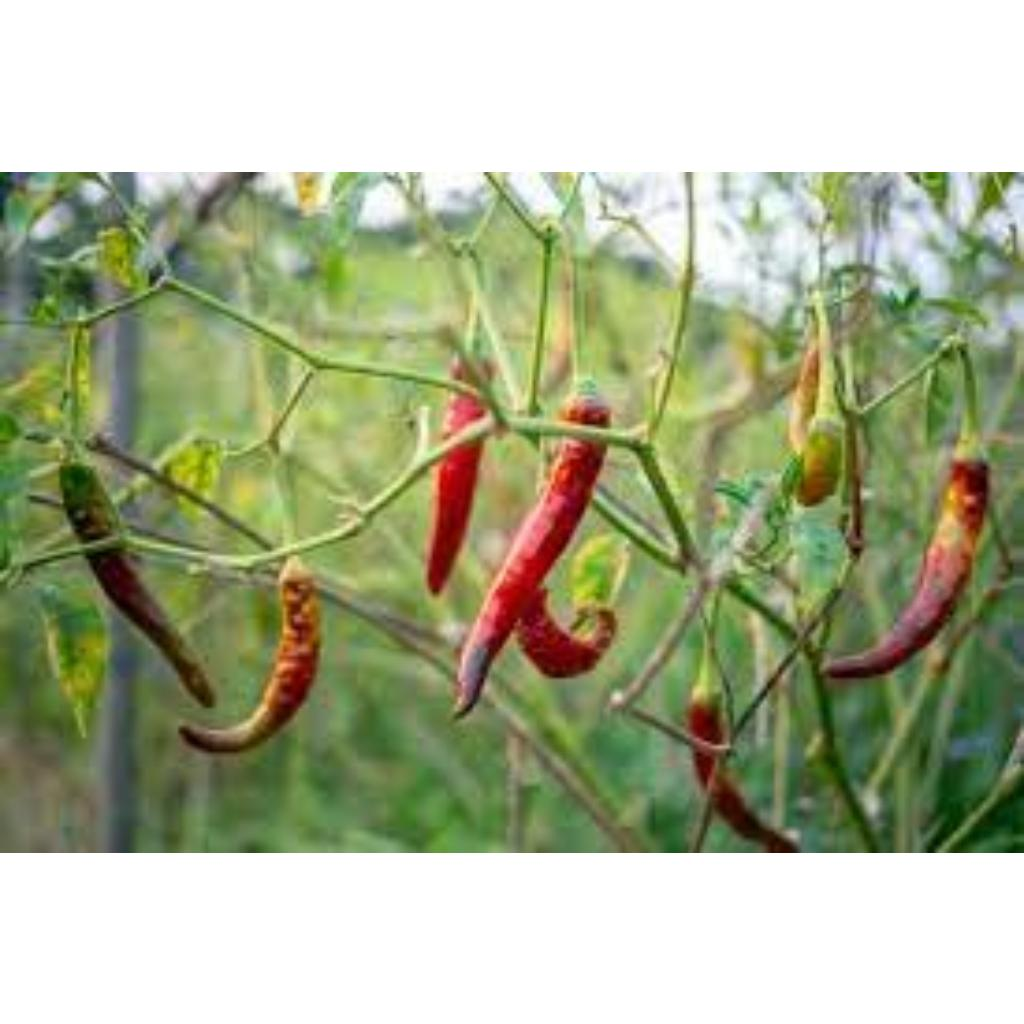chili: (456, 439, 606, 712), (824, 457, 988, 677), (178, 557, 320, 751), (686, 659, 798, 852), (516, 587, 616, 677), (426, 441, 482, 593), (444, 393, 484, 435), (564, 395, 608, 424)
